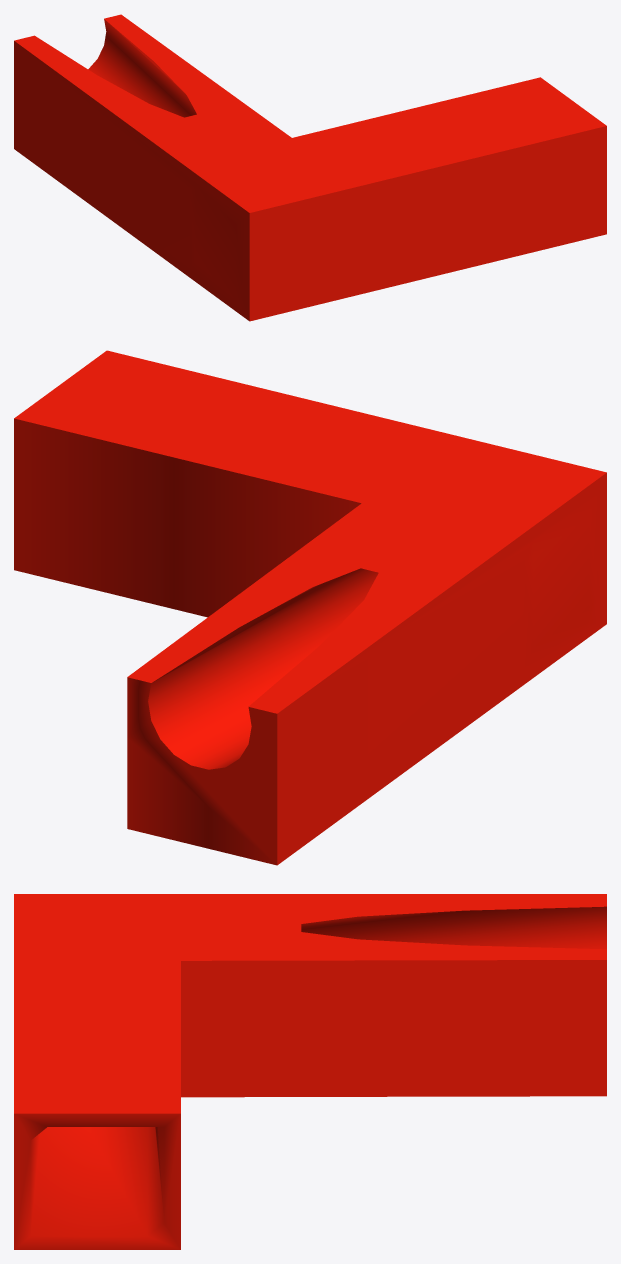
The model's file is CanalLevel1.FBX.
The picture shows the model from 3 angles, top to bottom: view 1: azimuth 30°, elevation 25°; view 2: azimuth 150°, elevation 25°; view 3: azimuth 270°, elevation 25°; orthographic projection. The views are drawn at different scales.
Visible parts, largest first — view 1: Box001; view 2: Box001; view 3: Box001.
Part boxes in pixels (<box>): Box001: <box>14,14,606,321</box>; Box001: <box>14,350,606,865</box>; Box001: <box>14,894,606,1249</box>.
Bounding box in the file's own units: 93.21 × 26.99 × 106.
